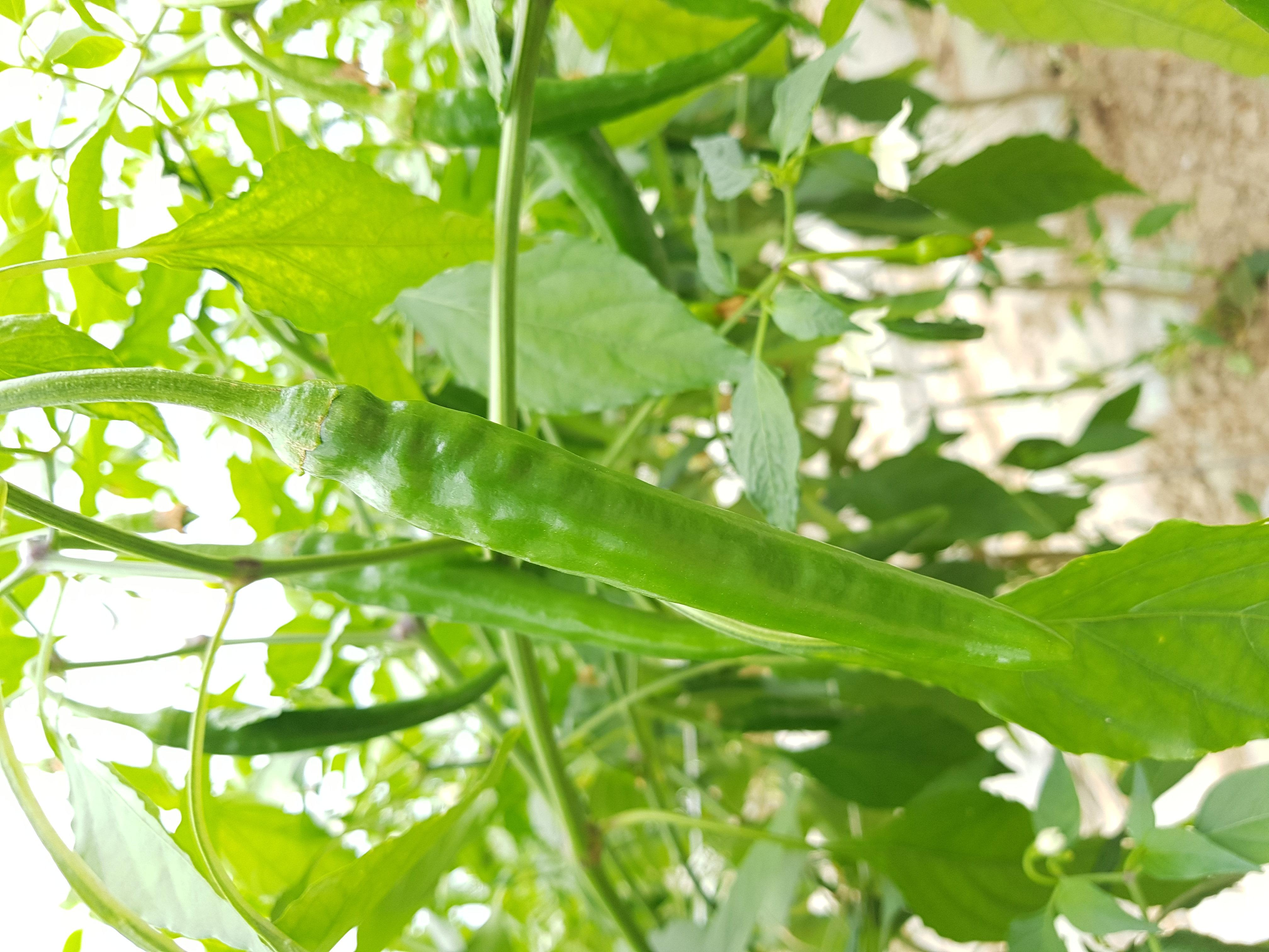Buah Cabai Sehat: (285, 378, 1072, 683)
